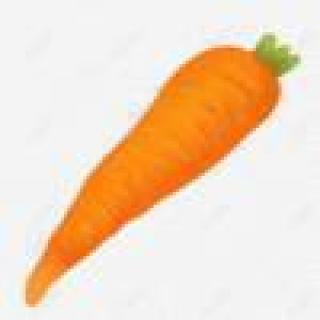Wortel: (17, 27, 305, 308)
